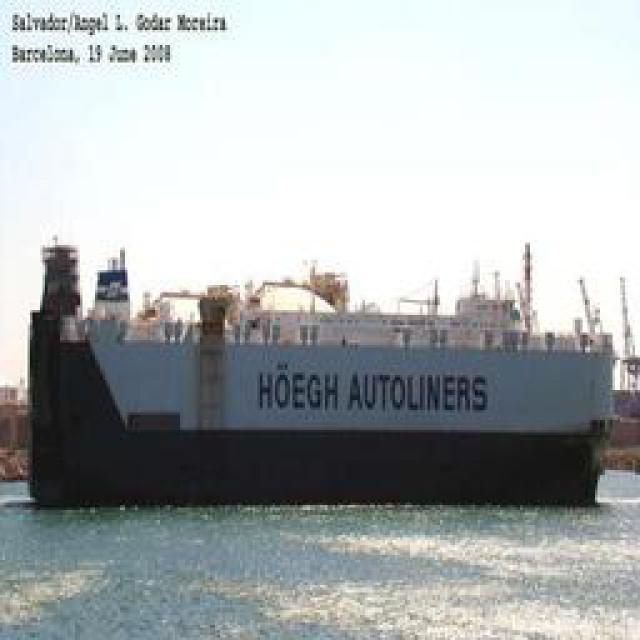Ship: (37, 240, 610, 503)
